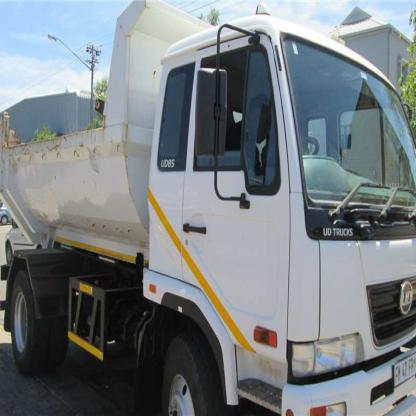dump_truck: (3, 6, 416, 416)
